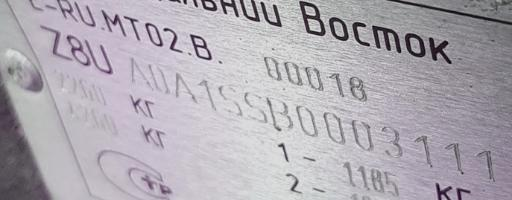letter: (38, 22, 74, 63), (82, 36, 116, 77), (264, 92, 294, 134), (126, 54, 154, 93), (62, 32, 92, 67), (146, 58, 172, 98), (320, 107, 346, 147), (349, 114, 375, 153), (216, 82, 244, 118), (242, 87, 268, 125), (294, 101, 318, 141), (171, 68, 197, 104), (410, 130, 434, 169), (442, 137, 466, 176), (474, 145, 498, 184), (379, 121, 403, 158), (197, 76, 217, 114)
